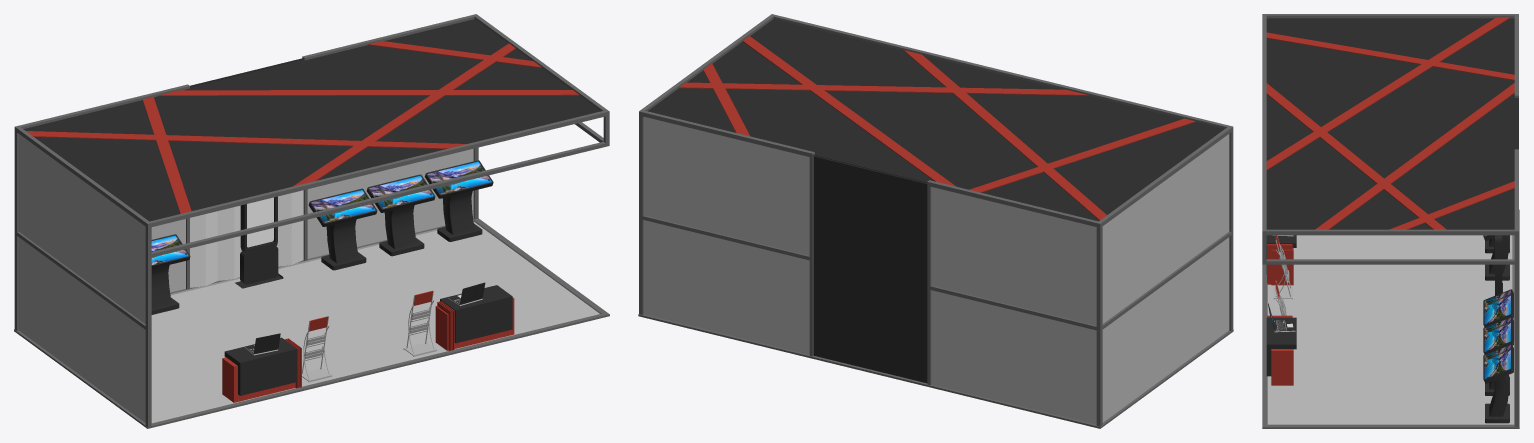
Rendered from Expo2_Booth3_Final_Reto.fbx.
The picture shows the model from 3 angles, left to right: view 1: azimuth 30°, elevation 25°; view 2: azimuth 150°, elevation 25°; view 3: azimuth 270°, elevation 25°; orthographic projection. The views are drawn at different scales.
Parts seen in each view (by area): view 1: Plane.003, Cube.016, Plane.005, Cube.018, Plane.004, Cube.019, Plane.017, Plane.007, Plane.002, Plane.008, Cube.023, Cube.004 (+5 smaller); view 2: Plane.004, Plane.003, Plane.005, Plane.006, Cube.018, Cube.016, Cube.023, Cube.001, Cube.004, Cube.002, Cube.003; view 3: Plane.003, Cube.016, Cube.018, Cube.019, Cube.023, Cube.004, Plane.002, Cube.001, Cube.002, Plane.008, Cube.003, Plane.007 (+4 smaller).
Part boxes in pixels (x1,y1,x2,y2): Plane.003: [23, 19, 600, 221]; Cube.016: [14, 218, 609, 428]; Plane.005: [19, 134, 145, 422]; Cube.018: [14, 14, 609, 426]; Plane.004: [151, 148, 473, 292]; Cube.019: [222, 285, 514, 402]; Plane.017: [235, 196, 283, 288]; Plane.007: [308, 188, 377, 270]; Plane.002: [425, 160, 493, 241]; Plane.008: [367, 174, 435, 256]; Cube.023: [26, 131, 466, 148]; Cube.004: [159, 90, 579, 95]; Plane.004: [643, 117, 1096, 424]; Plane.003: [648, 19, 1224, 221]; Plane.005: [1102, 134, 1229, 422]; Plane.006: [813, 155, 927, 383]; Cube.018: [639, 14, 1233, 426]; Cube.016: [638, 314, 1233, 428]; Cube.023: [903, 50, 1106, 220]; Cube.001: [679, 82, 1088, 95]; Cube.004: [742, 36, 955, 186]; Cube.002: [969, 118, 1195, 192]; Cube.003: [703, 63, 749, 136]; Plane.003: [1266, 18, 1518, 229]; Cube.016: [1262, 209, 1519, 428]; Cube.018: [1262, 14, 1518, 426]; Cube.019: [1266, 235, 1296, 385]; Cube.023: [1266, 17, 1509, 169]; Cube.004: [1315, 83, 1514, 229]; Plane.002: [1483, 344, 1513, 423]; Cube.001: [1266, 83, 1446, 229]; Cube.002: [1266, 32, 1514, 80]; Plane.008: [1483, 316, 1513, 395]; Cube.003: [1389, 181, 1514, 229]; Plane.007: [1483, 289, 1513, 326].
Bounding box in the file's own units: 1200 × 508 × 600.
